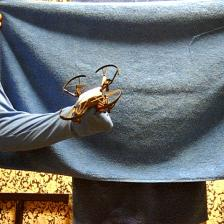drone: (60, 63, 122, 122)
